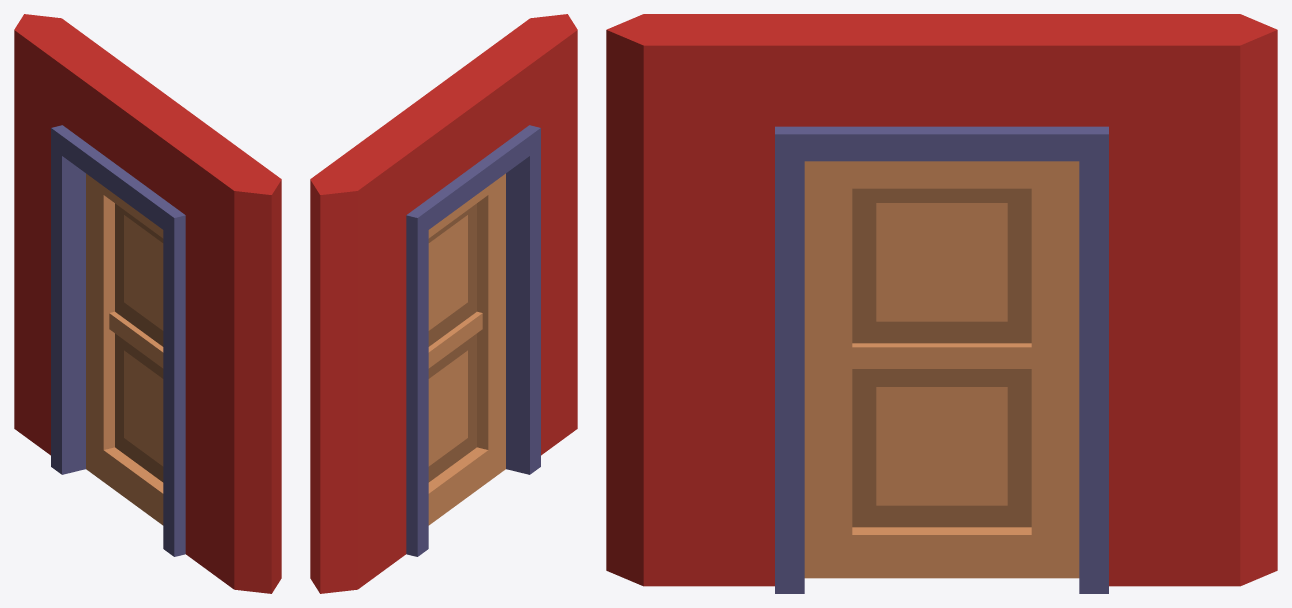
The model's file is redDoor.fbx.
3 views of the same model, side by side, from view 1: azimuth 30°, elevation 25°; view 2: azimuth 150°, elevation 25°; view 3: azimuth 270°, elevation 25° (orthographic). The views are drawn at different scales.
Visible parts, largest first — view 1: doorway_doorSolid; view 2: doorway_doorSolid; view 3: doorway_doorSolid.
Part boxes in pixels (x1,y1,x2,y2): doorway_doorSolid: (14,14,281,593); doorway_doorSolid: (310,14,577,593); doorway_doorSolid: (606,14,1277,593).
Size of the model in its own units: 1.85 by 10 by 11.25.
